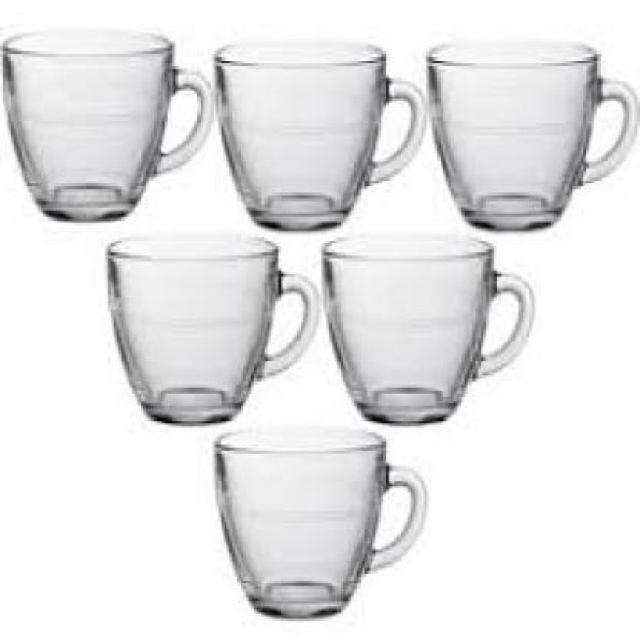kaca: (213, 425, 424, 617), (318, 233, 532, 422), (424, 40, 636, 229), (210, 40, 422, 229), (0, 28, 211, 217), (106, 233, 317, 422)
